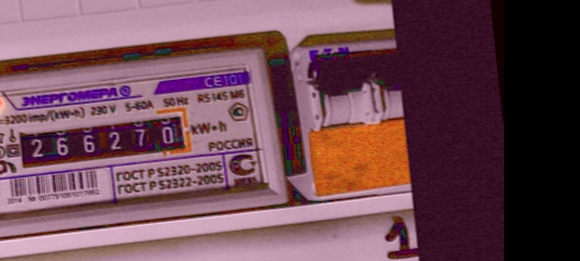0: (162, 122, 176, 144)
2: (30, 134, 46, 157), (109, 127, 123, 149)
6: (56, 134, 71, 155), (82, 131, 97, 151)
7: (134, 124, 149, 147)
screen: (10, 100, 202, 177)
